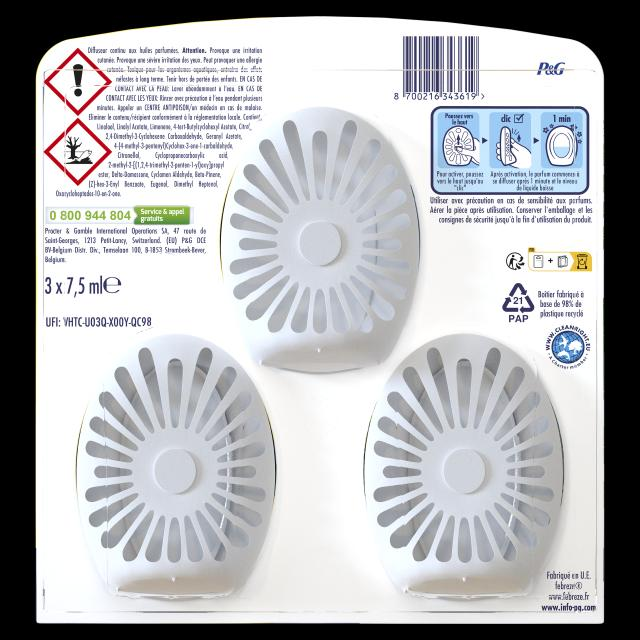GHS_Symbol_ENVIRONMENT: (43, 118, 113, 186)
GHS_Symbol_EXCLAMATION_MARK: (42, 46, 112, 117)
